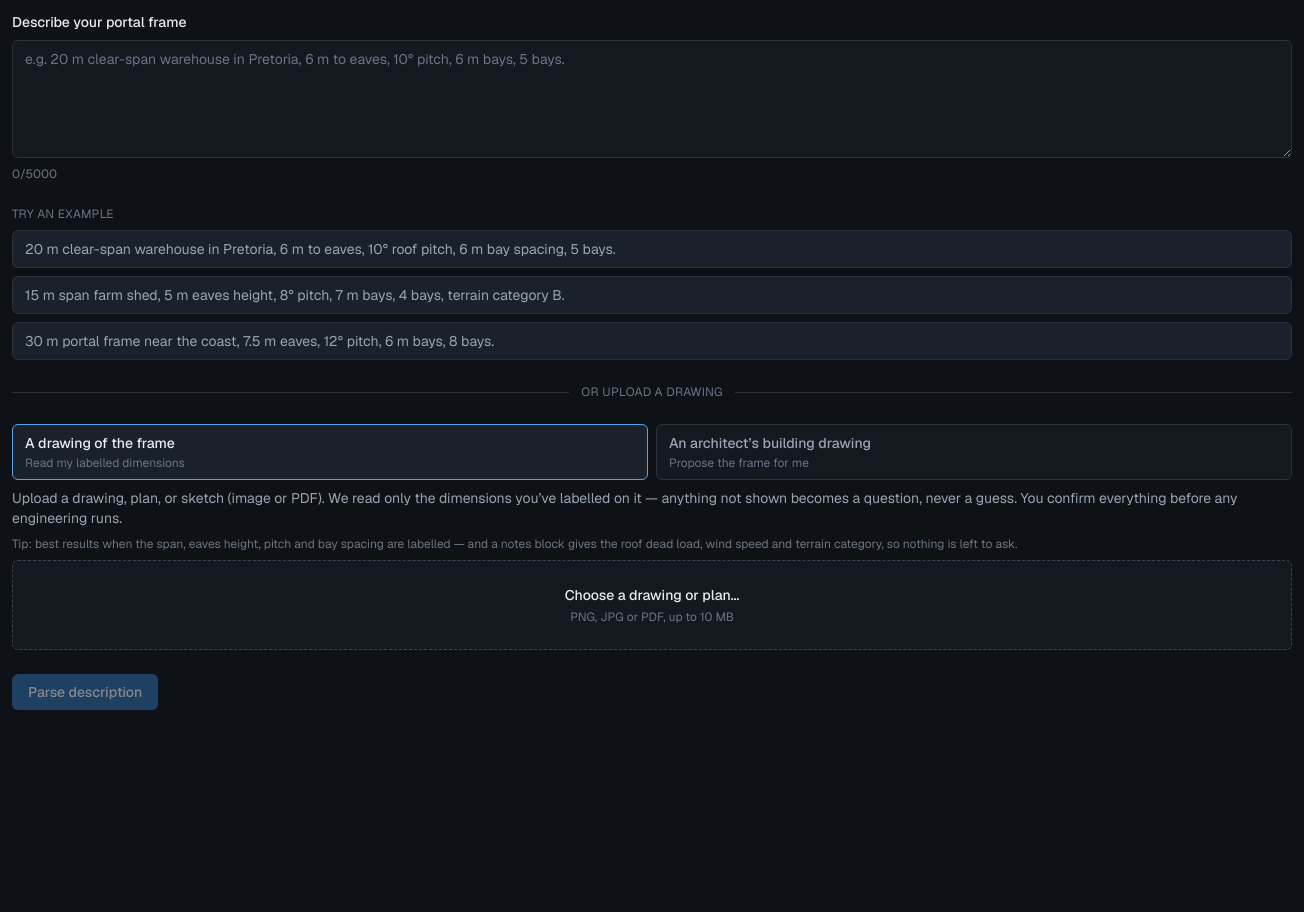
Test: DescribeStep › offers a frame-sketch and an architect-drawing upload mode, defaulting to frame
This screenshot has width=1304, height=912.
Step 1. Click the radio button labelled "An architect’s building drawing Propose the frame for me" → click(770, 443), box [656, 424, 1292, 480]
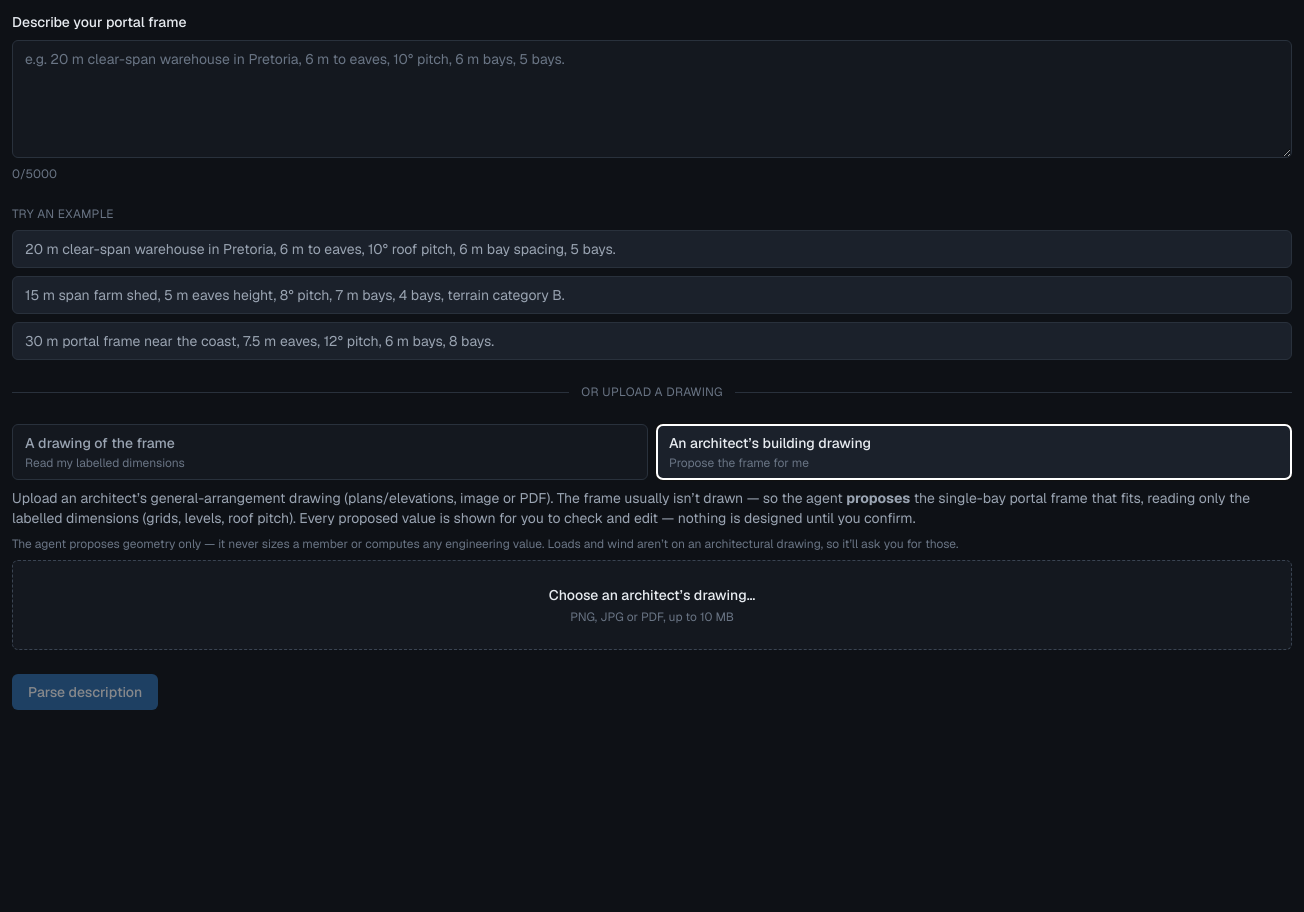
Now the text "it never sizes a member or computes any engineering value" is shown, box [12, 536, 958, 552]
